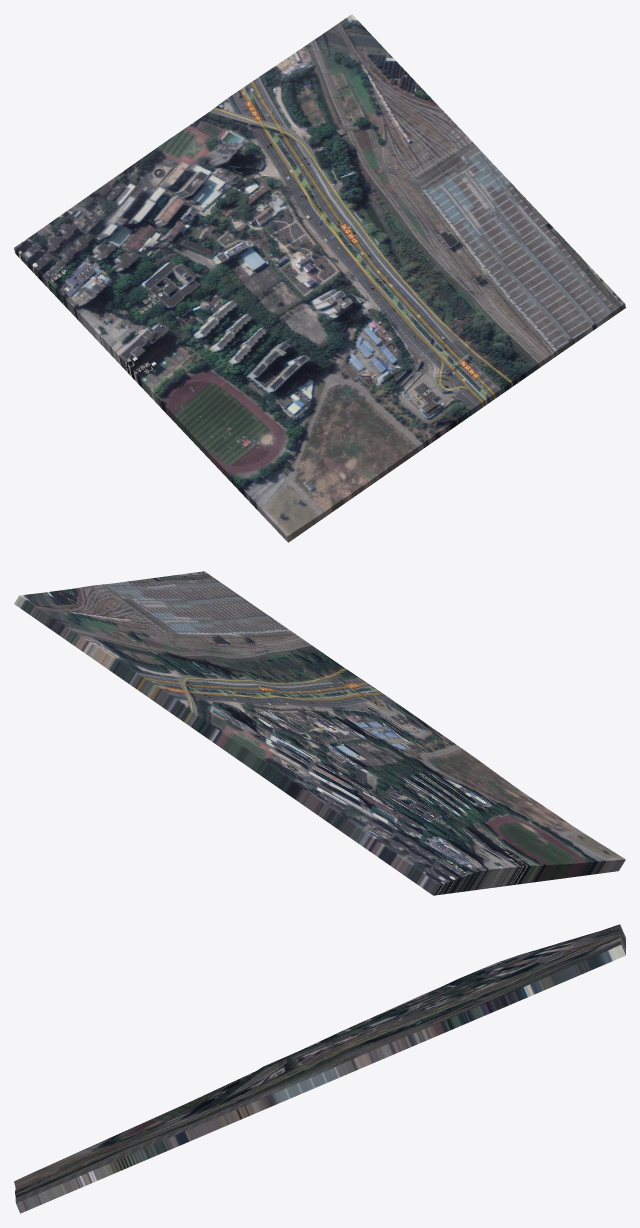
3 renders of one model, top to bottom at view 1: azimuth 30°, elevation 25°; view 2: azimuth 150°, elevation 25°; view 3: azimuth 270°, elevation 25°, orthographic. The views are drawn at different scales.
Parts seen in each view (by area): view 1: 0_16_27; view 2: 0_16_27; view 3: 0_16_27.
Boxes of the visible parts, box(x1,y1,x2,y2) form: 0_16_27: box(14, 14, 625, 542); 0_16_27: box(14, 571, 625, 895); 0_16_27: box(14, 924, 625, 1213).
Bounding box in the file's own units: 597 × 437 × 548.
Materials: 1 (1 with a texture image).
